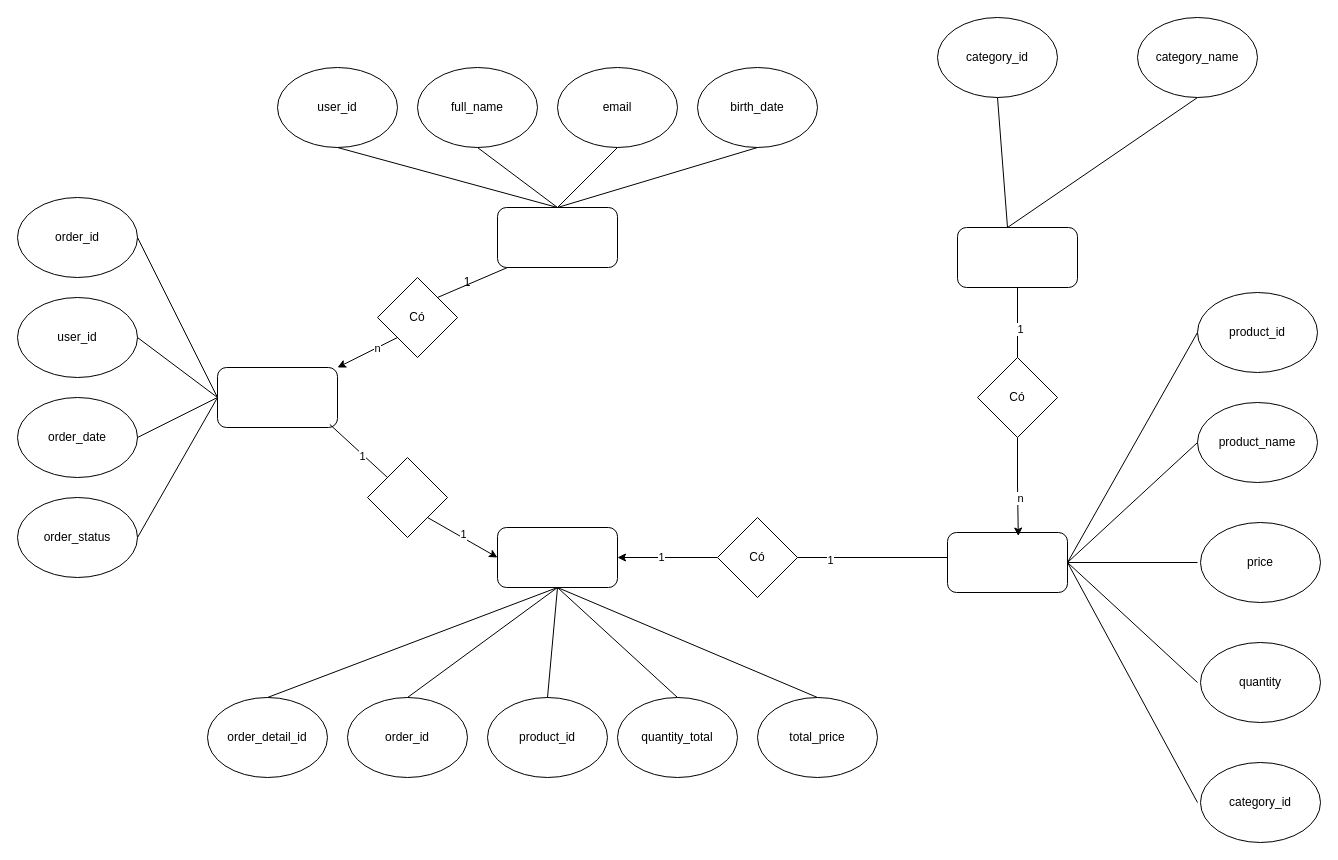
Some shapes in this 1338 by 860 pixel diagram are drawn without their labels. Each missing label, with the box of its shape:
categories: (956, 226, 1078, 288)
order_detail: (496, 526, 618, 588)
orders: (216, 366, 338, 428)
products: (946, 532, 1068, 592)
users: (496, 206, 618, 268)
